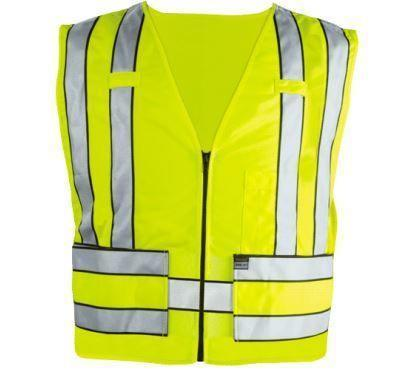vest: (58, 1, 357, 367)
